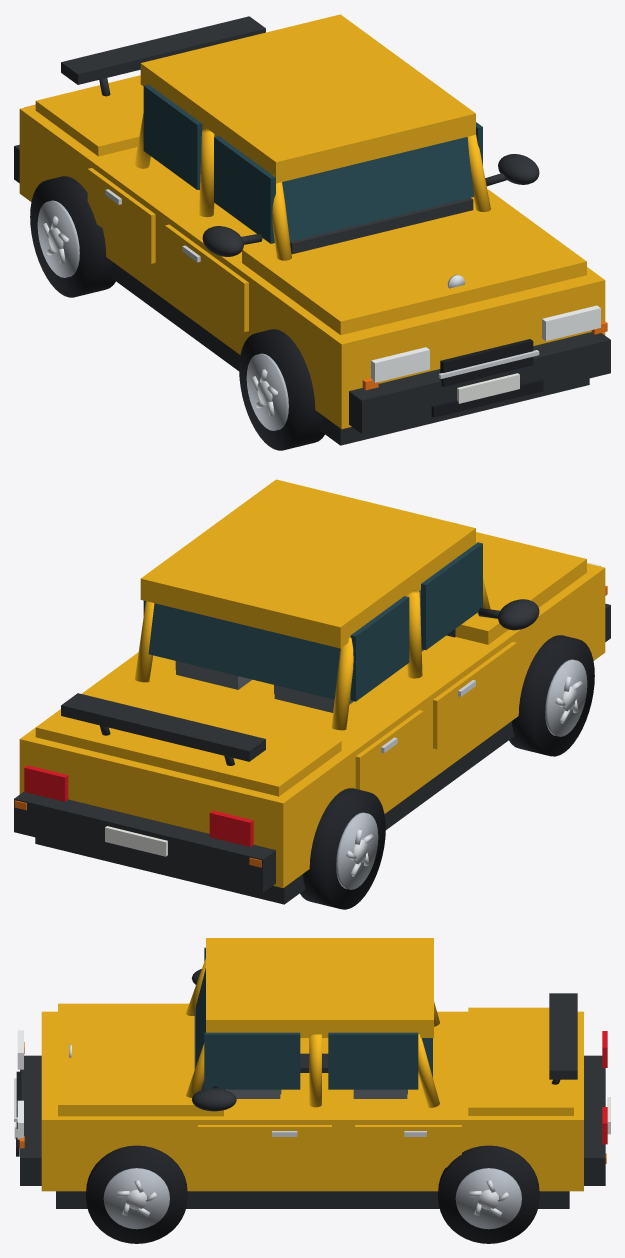
The model's file is auto5.glb.
3 renders of one model, top to bottom at view 1: azimuth 30°, elevation 25°; view 2: azimuth 150°, elevation 25°; view 3: azimuth 270°, elevation 25°, orthographic. The views are drawn at different scales.
Parts seen in each view (by area): view 1: Techo amarillo, Carroceria amarilla, Capo amarillo, Parabrisas delantero, Defensa delantera, Cajuela amarilla, Neumatico delantero Izquierdo, Neumatico trasero Izquierdo, Aleron trasero, Chasis inferior, Puerta delantera Izquierdo, Ventana delantera Izquierdo (+16 smaller); view 2: Carroceria amarilla, Techo amarillo, Cajuela amarilla, Defensa trasera, Cristal trasero, Capo amarillo, Aleron trasero, Neumatico trasero Izquierdo, Neumatico delantero Izquierdo, Chasis inferior, Ventana delantera Izquierdo, Puerta delantera Izquierdo (+13 smaller); view 3: Carroceria amarilla, Techo amarillo, Capo amarillo, Cajuela amarilla, Chasis inferior, Puerta delantera Derecho, Ventana delantera Derecho, Ventana trasera Derecho, Neumatico delantero Derecho, Neumatico trasero Derecho, Puerta trasera Derecho, Defensa trasera (+11 smaller).
Part boxes in pixels (x1,y1,x2,y2): Techo amarillo: [140, 14, 475, 183]; Carroceria amarilla: [19, 105, 605, 429]; Capo amarillo: [242, 189, 586, 334]; Parabrisas delantero: [282, 137, 474, 241]; Defensa delantera: [349, 332, 610, 433]; Cajuela amarilla: [35, 75, 143, 156]; Neumatico delantero Izquierdo: [239, 329, 324, 450]; Neumatico trasero Izquierdo: [30, 176, 115, 297]; Aleron trasero: [61, 16, 265, 84]; Chasis inferior: [110, 262, 589, 445]; Puerta delantera Izquierdo: [165, 224, 248, 331]; Ventana delantera Izquierdo: [214, 136, 275, 243]; Carroceria amarilla: [19, 563, 605, 887]; Techo amarillo: [140, 479, 475, 648]; Cajuela amarilla: [35, 681, 341, 796]; Defensa trasera: [14, 791, 275, 892]; Cristal trasero: [148, 603, 340, 699]; Capo amarillo: [455, 532, 586, 644]; Aleron trasero: [61, 693, 265, 761]; Neumatico trasero Izquierdo: [300, 788, 385, 909]; Neumatico delantero Izquierdo: [509, 635, 594, 756]; Chasis inferior: [35, 721, 514, 904]; Ventana delantera Izquierdo: [421, 542, 482, 649]; Puerta delantera Izquierdo: [433, 642, 516, 749]; Carroceria amarilla: [41, 1011, 583, 1191]; Techo amarillo: [206, 938, 433, 1037]; Capo amarillo: [58, 1003, 223, 1116]; Cajuela amarilla: [468, 1007, 573, 1115]; Chasis inferior: [56, 1191, 569, 1208]; Puerta delantera Derecho: [198, 1125, 331, 1167]; Ventana delantera Derecho: [204, 1032, 300, 1089]; Ventana trasera Derecho: [328, 1032, 418, 1089]; Neumatico delantero Derecho: [86, 1145, 187, 1243]; Neumatico trasero Derecho: [438, 1145, 539, 1243]; Puerta trasera Derecho: [355, 1125, 461, 1167]; Defensa trasera: [584, 1055, 605, 1185].
Bounding box in the file's own units: 2.26 × 1.6 × 4.24.
